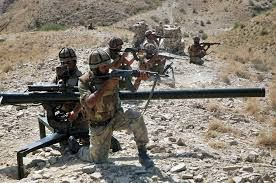gun: (6, 88, 267, 105), (91, 66, 164, 91), (148, 53, 188, 64), (111, 43, 142, 57), (195, 41, 225, 49)
uniform: (77, 69, 125, 161), (46, 64, 84, 125), (185, 40, 205, 67), (143, 28, 159, 55)
